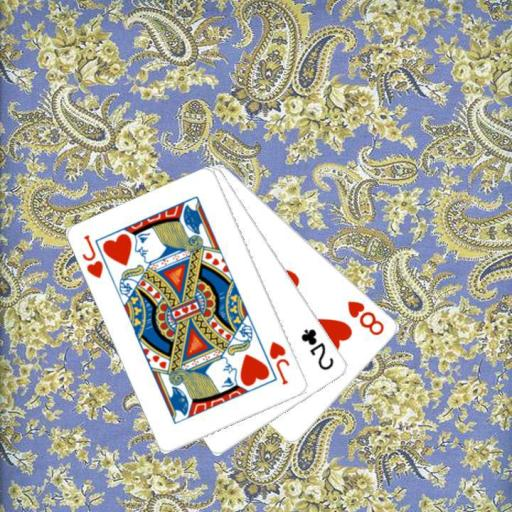2C: (298, 326, 336, 372)
8H: (345, 297, 386, 337)
JH: (266, 338, 292, 387), (80, 232, 105, 280)
